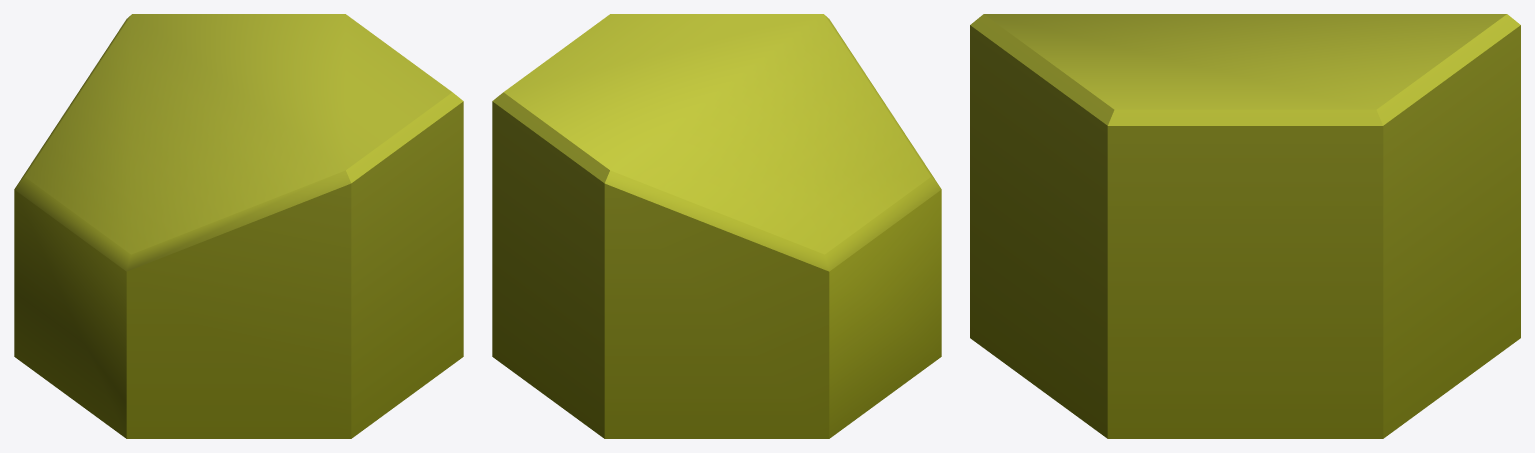
File: hex_grass_sloped_low.gltf
3 renders of one model, left to right at view 1: azimuth 30°, elevation 25°; view 2: azimuth 150°, elevation 25°; view 3: azimuth 270°, elevation 25°, orthographic. The views are drawn at different scales.
Parts seen in each view (by area): view 1: hex_grass_sloped_low; view 2: hex_grass_sloped_low; view 3: hex_grass_sloped_low.
Boxes of the visible parts, left/top/right/bottom form: hex_grass_sloped_low: left=14, top=14, right=463, bottom=438; hex_grass_sloped_low: left=492, top=14, right=941, bottom=438; hex_grass_sloped_low: left=970, top=14, right=1520, bottom=438.
Size of the model in its own units: 2 by 1.5 by 2.31.
1 material, 1 textured.
